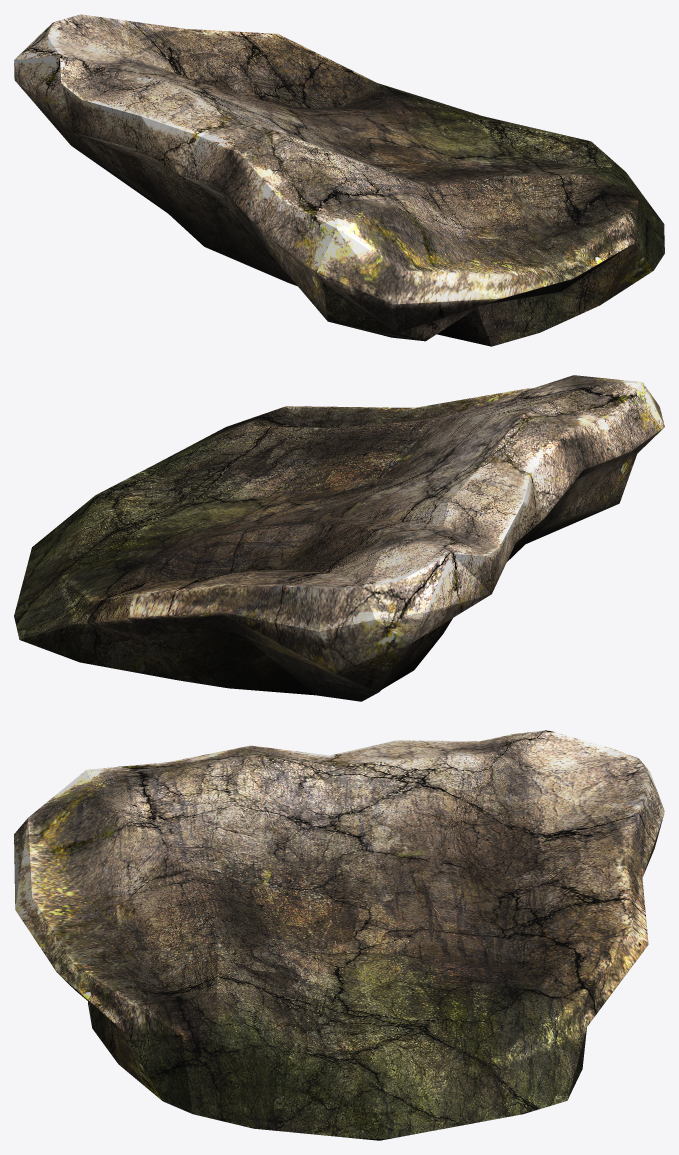
Rendered from rock_008.dae.
3 views of the same model, one above another, from view 1: azimuth 30°, elevation 25°; view 2: azimuth 150°, elevation 25°; view 3: azimuth 270°, elevation 25° (orthographic). The views are drawn at different scales.
Visible parts, largest first — view 1: Mesh_Object; view 2: Mesh_Object; view 3: Mesh_Object.
Part boxes in pixels (x1,y1,x2,y2): Mesh_Object: (14, 14, 664, 346); Mesh_Object: (14, 375, 664, 701); Mesh_Object: (14, 730, 664, 1140).
Size of the model in its own units: 6.12 by 2.15 by 6.89.
